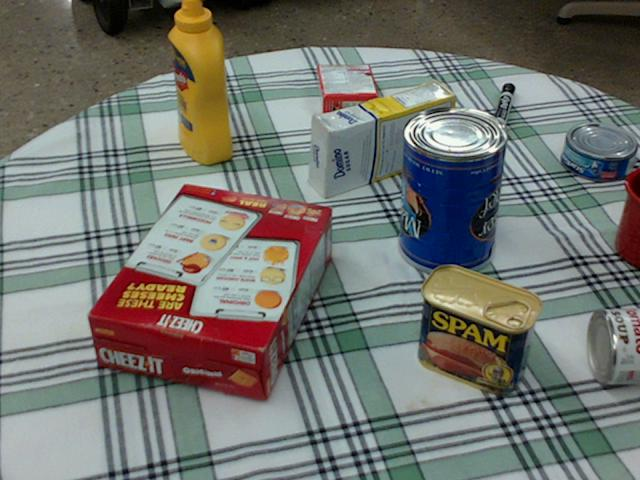cracker_box: (87, 186, 331, 398)
gelatin_box: (317, 65, 378, 113)
large_marker: (489, 82, 515, 134)
master_chef_can: (397, 105, 510, 274)
mug: (614, 168, 639, 269)
mustard_bottle: (168, 0, 230, 163)
potted_meat_can: (417, 264, 541, 392)
sugar_box: (309, 80, 455, 198)
tomato_soup_can: (589, 308, 639, 383)
tuna_fish_can: (562, 122, 637, 181)
